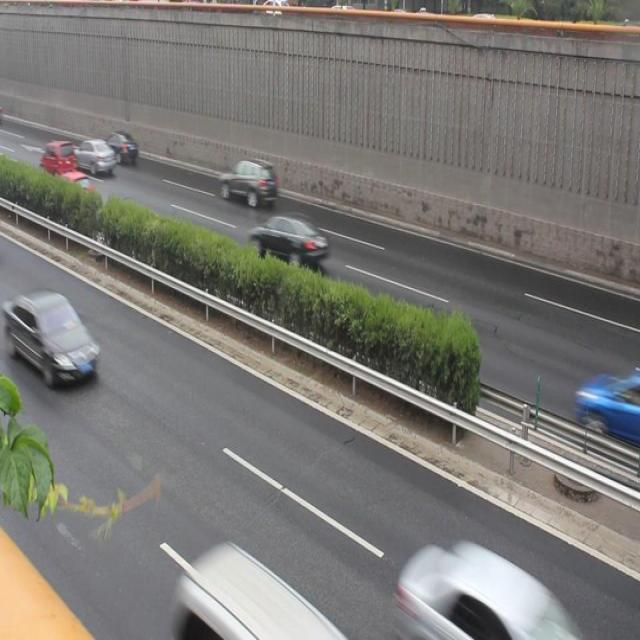car: (400, 537, 564, 640), (1, 289, 97, 387), (574, 363, 640, 454), (247, 213, 327, 268), (218, 156, 276, 211), (46, 170, 92, 214), (73, 135, 117, 176), (40, 140, 76, 178), (102, 132, 138, 164)
truck: (160, 535, 338, 640)
